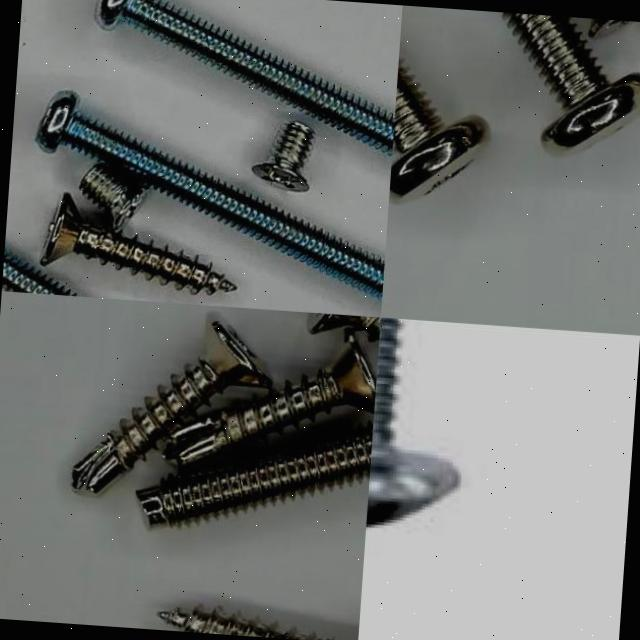Screw: (35, 91, 384, 300), (96, 0, 394, 154), (71, 312, 270, 493), (163, 329, 376, 466), (135, 422, 373, 525), (39, 194, 236, 294), (366, 317, 460, 524), (502, 12, 640, 148), (389, 62, 487, 197), (157, 608, 328, 640), (79, 162, 149, 232), (251, 121, 314, 190)
